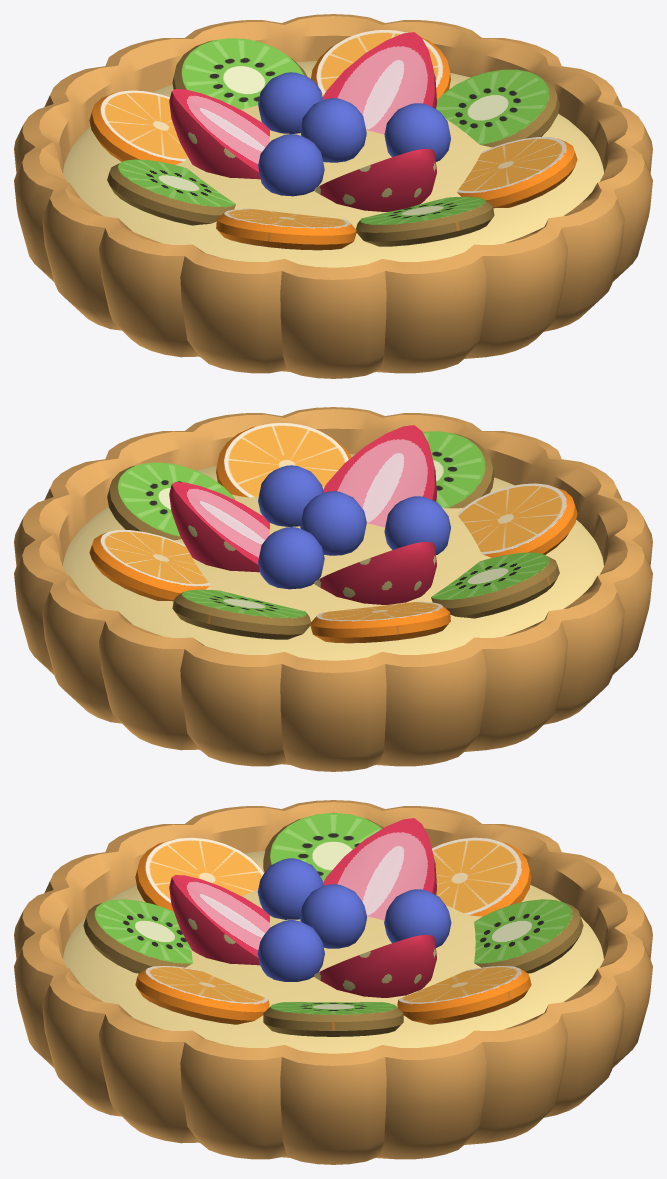
The model's file is FruitTart.glb.
The picture shows the model from 3 angles, top to bottom: view 1: azimuth 30°, elevation 25°; view 2: azimuth 150°, elevation 25°; view 3: azimuth 270°, elevation 25°; orthographic projection.
Visible parts, largest first — view 1: FruitTart; view 2: FruitTart; view 3: FruitTart.
Boxes of the visible parts, bbox=[...] form: FruitTart: bbox=[14, 14, 652, 378]; FruitTart: bbox=[14, 407, 652, 771]; FruitTart: bbox=[14, 800, 652, 1164].
Bounding box in the file's own units: 1.15 × 0.3495 × 1.14.
Materials: 6 (6 with a texture image).
